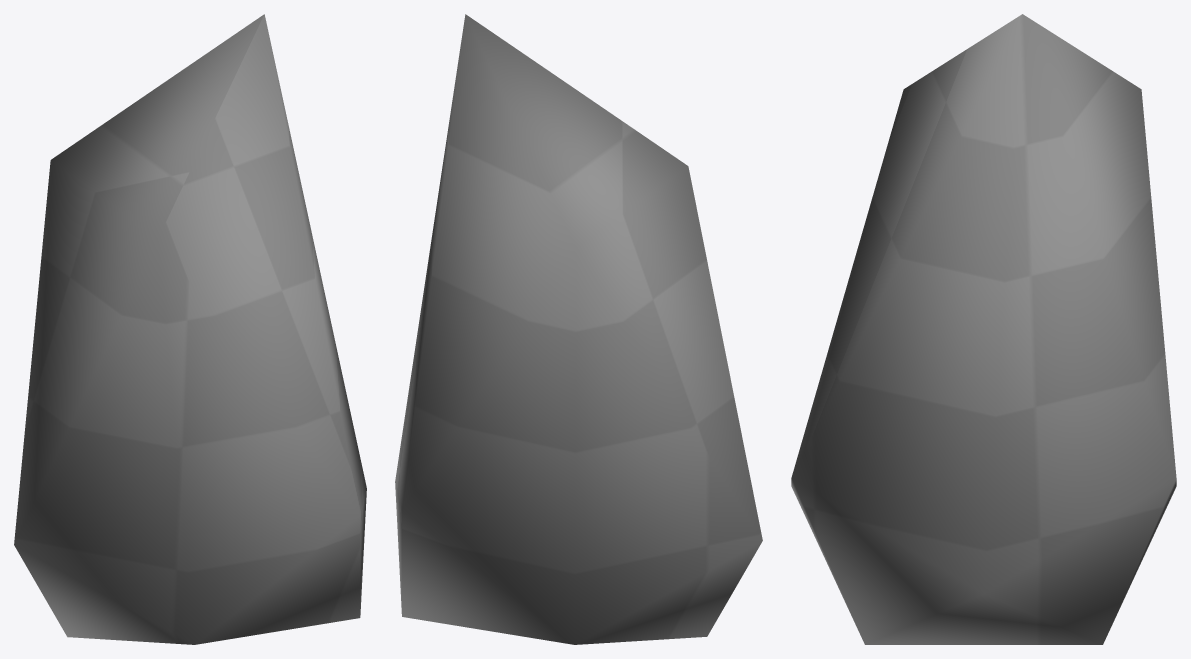
Rendered from rock2_20.FBX.
3 renders of one model, left to right at view 1: azimuth 30°, elevation 25°; view 2: azimuth 150°, elevation 25°; view 3: azimuth 270°, elevation 25°, orthographic. The views are drawn at different scales.
Parts seen in each view (by area): view 1: rock2; view 2: rock2; view 3: rock2.
Boxes of the visible parts, <box> form: rock2: <box>14,14,366,644</box>; rock2: <box>395,14,762,644</box>; rock2: <box>791,14,1176,644</box>.
Size of the model in its own units: 121 by 104 by 183.
